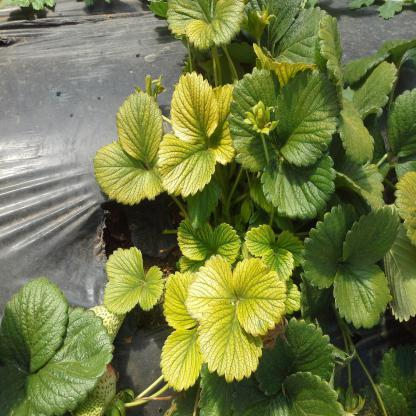Strawberry leaf: (22, 298, 116, 408), (188, 252, 264, 380), (3, 274, 66, 372), (91, 144, 170, 206), (233, 250, 286, 336), (168, 68, 219, 152), (114, 88, 164, 168), (101, 243, 145, 317), (158, 328, 202, 393), (140, 266, 164, 312)
